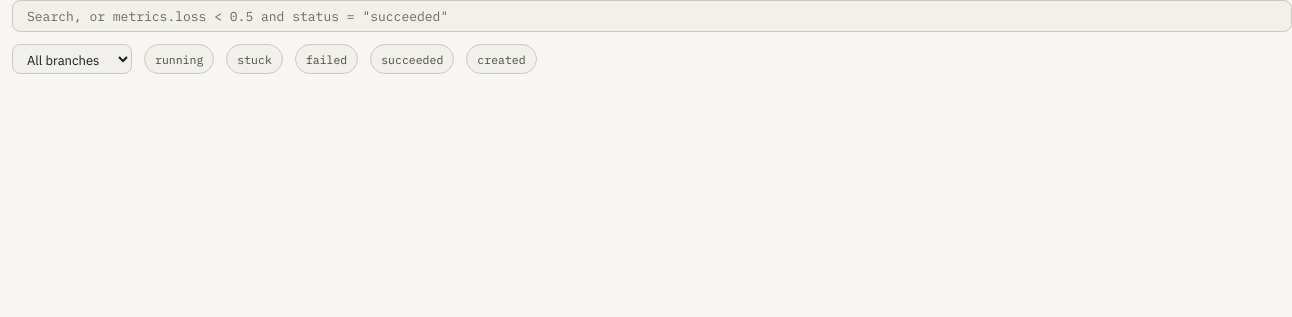
Test case: LeaderboardFilter › clear button resets all filters
Type "batch" into the field with placeholder "Search, or metrics.loss < 0.5 and status = \"succeeded\"".
click(654, 16); type("batch")  # box [21, 4, 1287, 28]
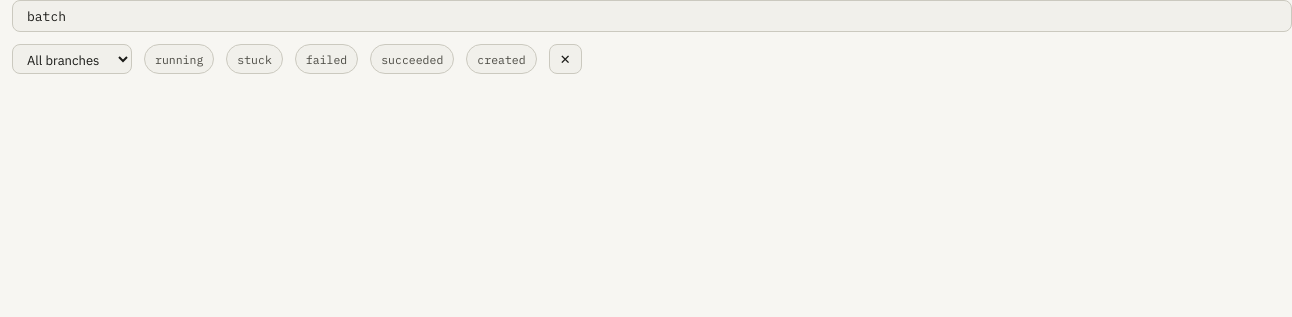
Select "main" in the dropdown at [72, 59], box [12, 44, 132, 74]
Wait 200 ms
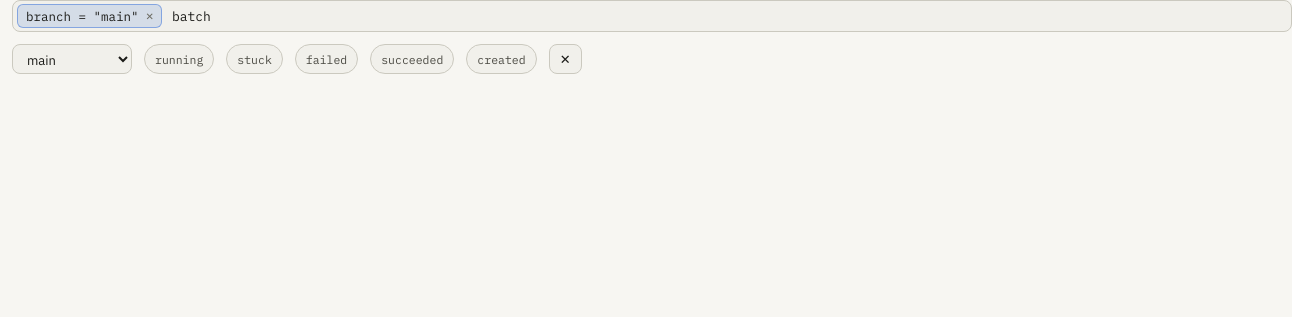
Click the 2nd button titled "clear".
click(565, 59)  # box [549, 44, 582, 74]
Wait 200 ms
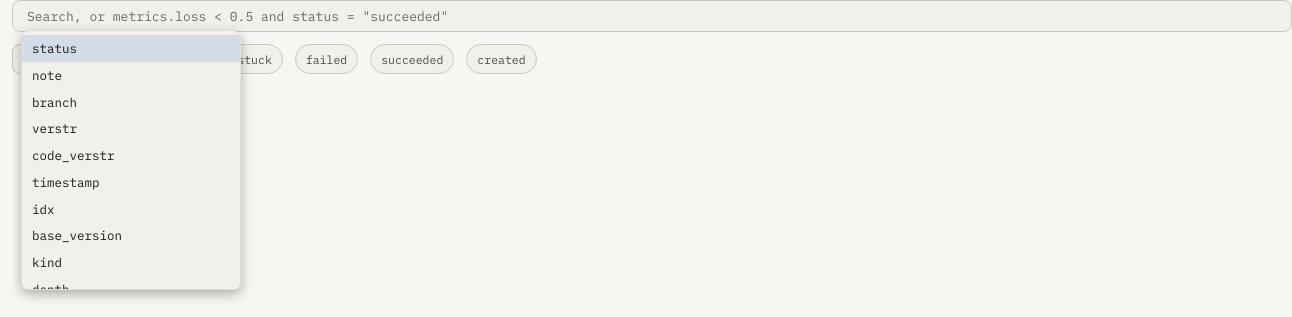
Now the field with placeholder "Search, or metrics.loss < 0.5 and status = \"succeeded\"" is empty, box [21, 4, 1287, 28]
